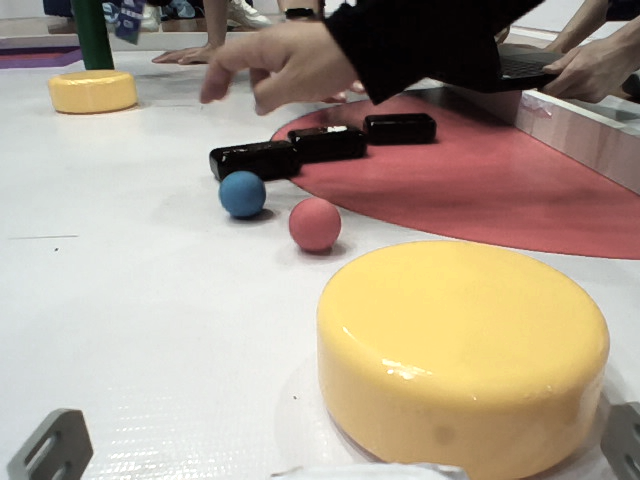black: (278, 117, 374, 174), (190, 139, 308, 183), (358, 108, 451, 155)
blue: (205, 168, 271, 219)
kuang: (1, 35, 84, 75)
red: (288, 192, 341, 248)
yellow: (306, 232, 621, 474), (29, 65, 156, 127)
zhuzi: (61, 1, 113, 78)
